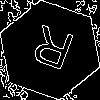R: (25, 25, 78, 80)
